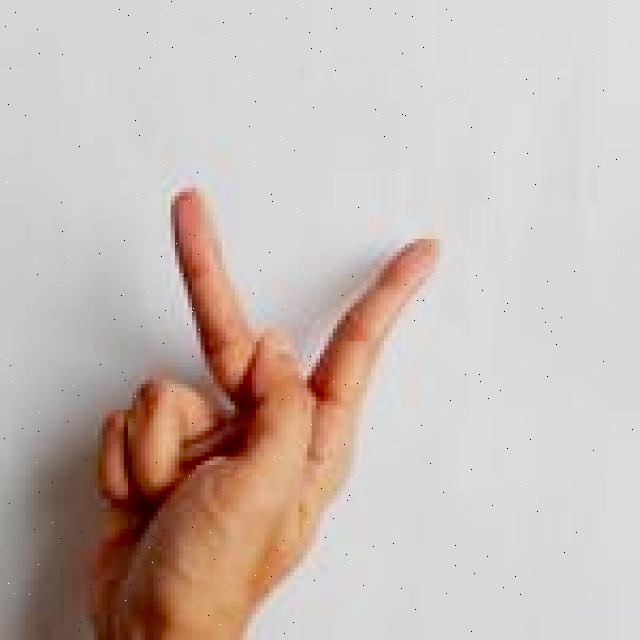K: (79, 175, 447, 640)
